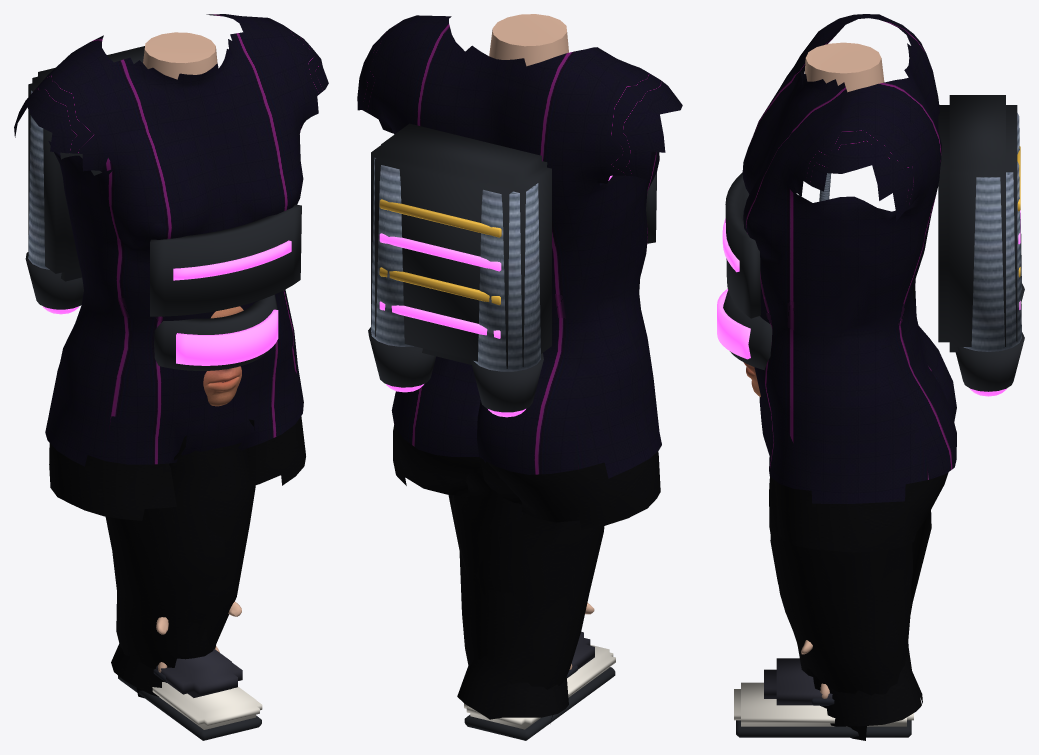
3 renders of one model, left to right at view 1: azimuth 30°, elevation 25°; view 2: azimuth 150°, elevation 25°; view 3: azimuth 270°, elevation 25°, orthographic. The views are drawn at different scales.
Visible parts, largest first — view 1: Torso, ThighL, Head, ThighR, ShinL; view 2: Torso, ThighL, ThighR, ShinL; view 3: Torso, ThighR, ShinL, ThighL, Head.
Boxes of the visible parts, left/top/right/bottom form: Torso: left=14, top=14, right=328, bottom=520; ThighL: left=105, top=435, right=228, bottom=698; Head: left=154, top=294, right=278, bottom=406; ThighR: left=111, top=419, right=255, bottom=696; ShinL: left=118, top=649, right=262, bottom=740; Torso: left=357, top=14, right=682, bottom=529; ThighL: left=457, top=458, right=604, bottom=723; ThighR: left=448, top=465, right=568, bottom=719; ShinL: left=452, top=495, right=615, bottom=740; Torso: left=722, top=14, right=1024, bottom=552; ThighR: left=769, top=477, right=922, bottom=740; ShinL: left=734, top=510, right=931, bottom=737; ThighL: left=770, top=536, right=921, bottom=726; Head: left=717, top=173, right=915, bottom=396.
Size of the model in its own units: 0.4934 by 1.06 by 0.438.
13 materials, 6 textured.
